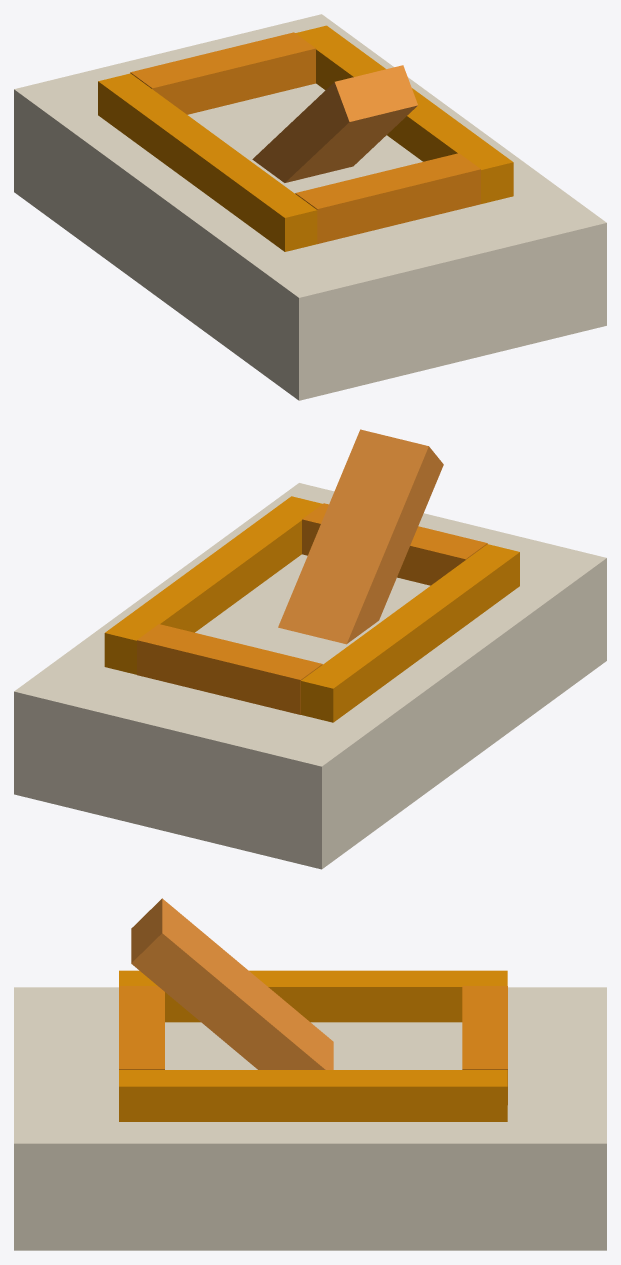
File: switcher.fbx
The picture shows the model from 3 angles, top to bottom: view 1: azimuth 30°, elevation 25°; view 2: azimuth 150°, elevation 25°; view 3: azimuth 270°, elevation 25°; orthographic projection. The views are drawn at different scales.
Visible parts, largest first — view 1: Куб, Куб.002, Куб.005, Куб.003, Куб.004, Куб.001; view 2: Куб, Куб.005, Куб.002, Куб.001, Куб.004, Куб.003; view 3: Куб, Куб.001, Куб.005, Куб.002, Куб.004, Куб.003.
Boxes of the visible parts, bbox=[...] form: Куб: bbox=[14, 14, 606, 400]; Куб.002: bbox=[98, 73, 317, 251]; Куб.005: bbox=[252, 65, 417, 182]; Куб.003: bbox=[295, 153, 480, 243]; Куб.004: bbox=[130, 32, 315, 114]; Куб.001: bbox=[295, 25, 513, 203]; Куб: bbox=[14, 483, 606, 869]; Куб.005: bbox=[278, 429, 443, 644]; Куб.002: bbox=[301, 544, 519, 722]; Куб.001: bbox=[104, 496, 322, 674]; Куб.004: bbox=[137, 624, 322, 714]; Куб.003: bbox=[302, 503, 487, 585]; Куб: bbox=[14, 987, 606, 1250]; Куб.001: bbox=[119, 1070, 507, 1121]; Куб.005: bbox=[131, 898, 333, 1069]; Куб.002: bbox=[119, 970, 507, 1022]; Куб.004: bbox=[462, 986, 507, 1104]; Куб.003: bbox=[119, 986, 164, 1069].
Size of the model in its own units: 372 by 278 by 597.
